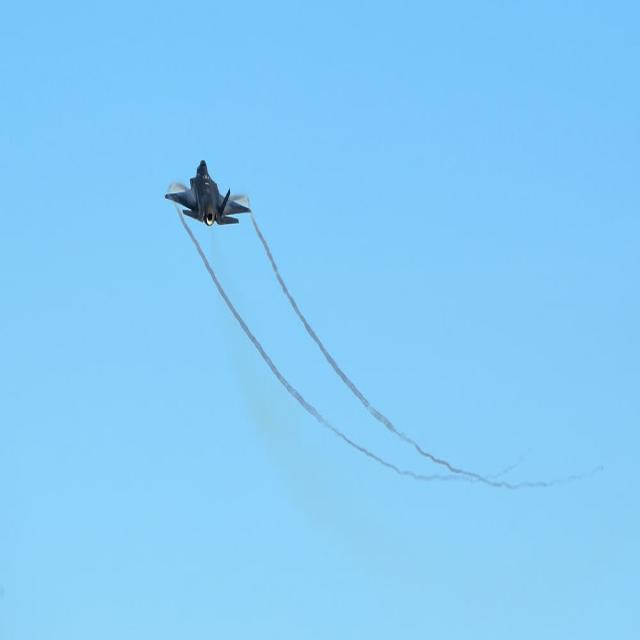MIL_Plane: (163, 160, 252, 228)
